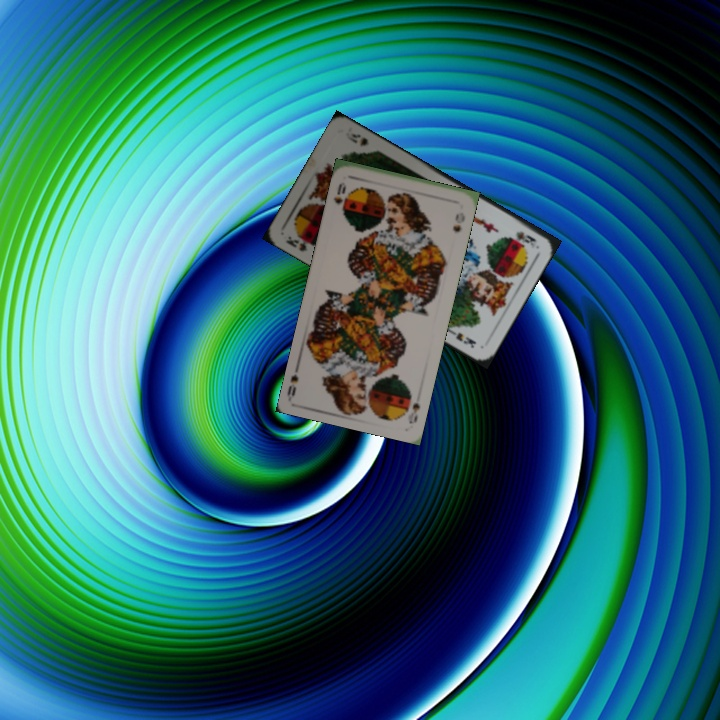SK: (282, 231, 317, 254), (512, 227, 539, 251)
SO: (329, 178, 349, 207), (405, 399, 422, 426)
